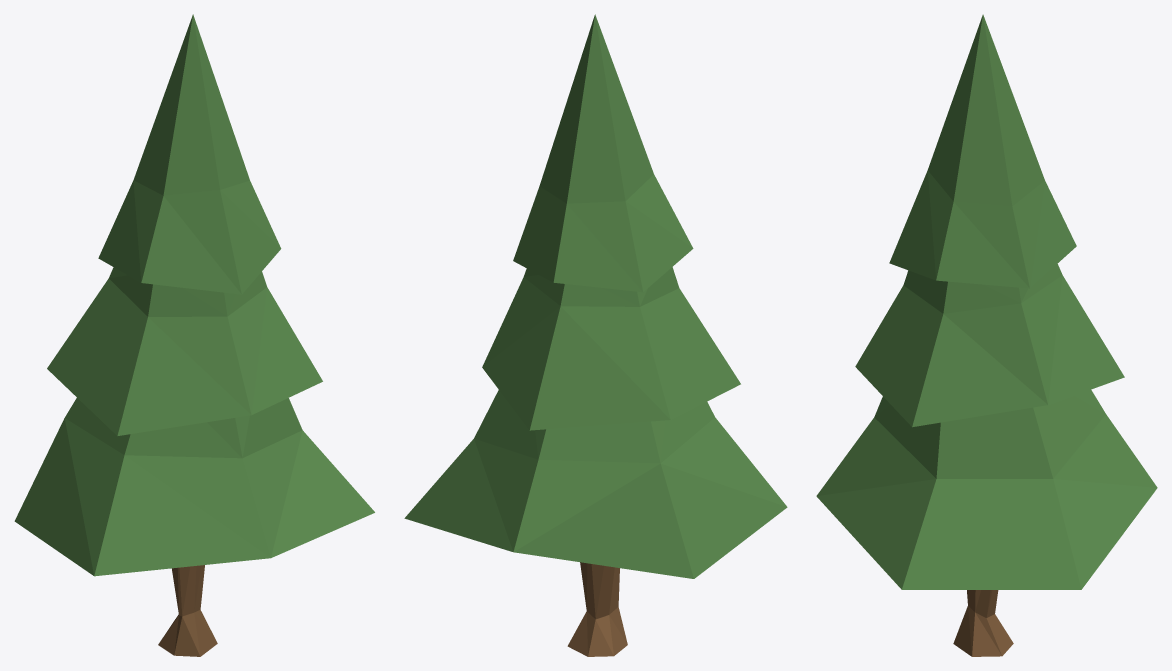
The model's file is tree3d-022.glb.
The picture shows the model from 3 angles, left to right: view 1: azimuth 30°, elevation 25°; view 2: azimuth 150°, elevation 25°; view 3: azimuth 270°, elevation 25°; orthographic projection.
Parts seen in each view (by area): view 1: tree3d-022; view 2: tree3d-022; view 3: tree3d-022.
Boxes of the visible parts, x1,y1,x2,y2 form: tree3d-022: (14,14,374,656); tree3d-022: (404,14,787,656); tree3d-022: (816,14,1157,656).
Size of the model in its own units: 0.4778 by 1 by 0.4884.
